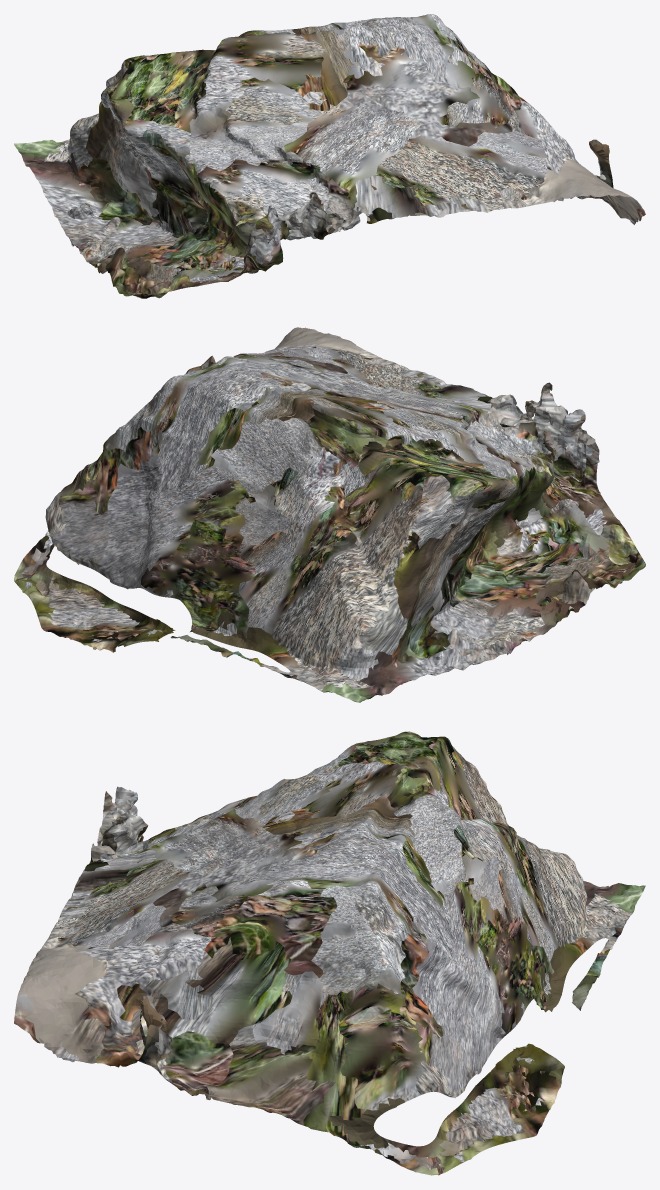
3 views of the same model, one above another, from view 1: azimuth 30°, elevation 25°; view 2: azimuth 150°, elevation 25°; view 3: azimuth 270°, elevation 25° (orthographic). The views are drawn at different scales.
Parts seen in each view (by area): view 1: nodes[0]; view 2: nodes[0]; view 3: nodes[0].
Part boxes in pixels (<box>): nodes[0]: <box>14,14,645,298</box>; nodes[0]: <box>14,327,645,702</box>; nodes[0]: <box>14,731,645,1175</box>.
Bounding box in the file's own units: 1.56 × 0.6293 × 1.51.
